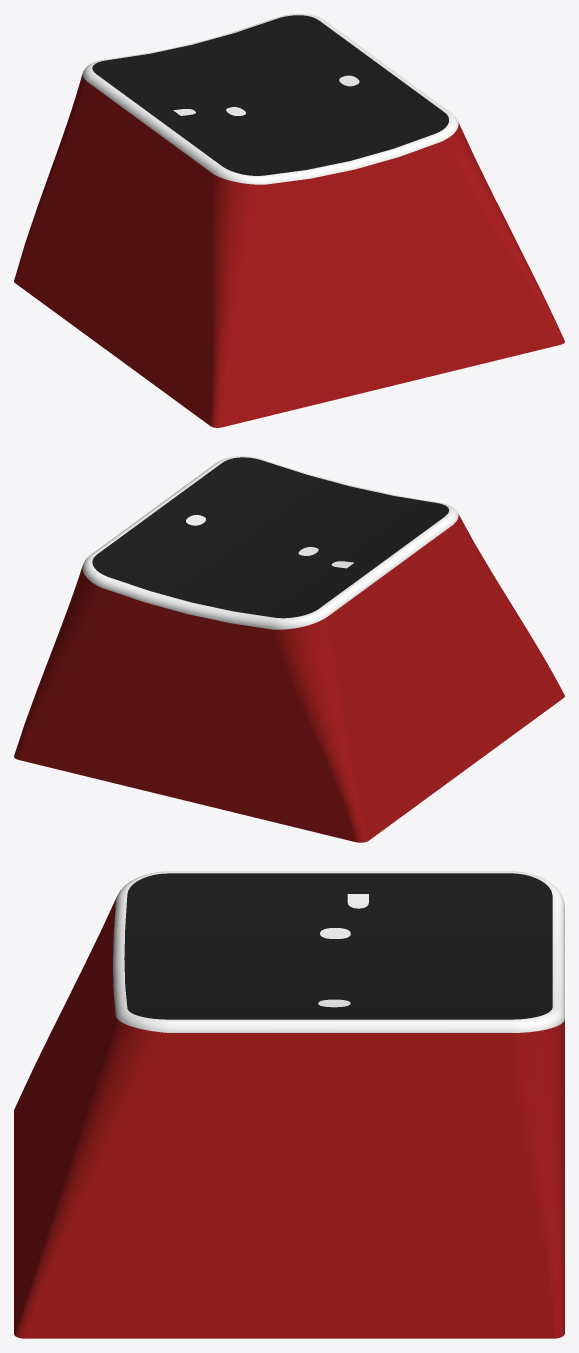
File: PgUp.fbx
3 renders of one model, top to bottom at view 1: azimuth 30°, elevation 25°; view 2: azimuth 150°, elevation 25°; view 3: azimuth 270°, elevation 25°, orthographic. The views are drawn at different scales.
Visible parts, largest first — view 1: Body1; view 2: Body1; view 3: Body1.
Part boxes in pixels (<box>): Body1: <box>14,14,564,427</box>; Body1: <box>14,456,564,842</box>; Body1: <box>14,871,564,1338</box>.
Size of the model in its own units: 18 by 9.95 by 18.
